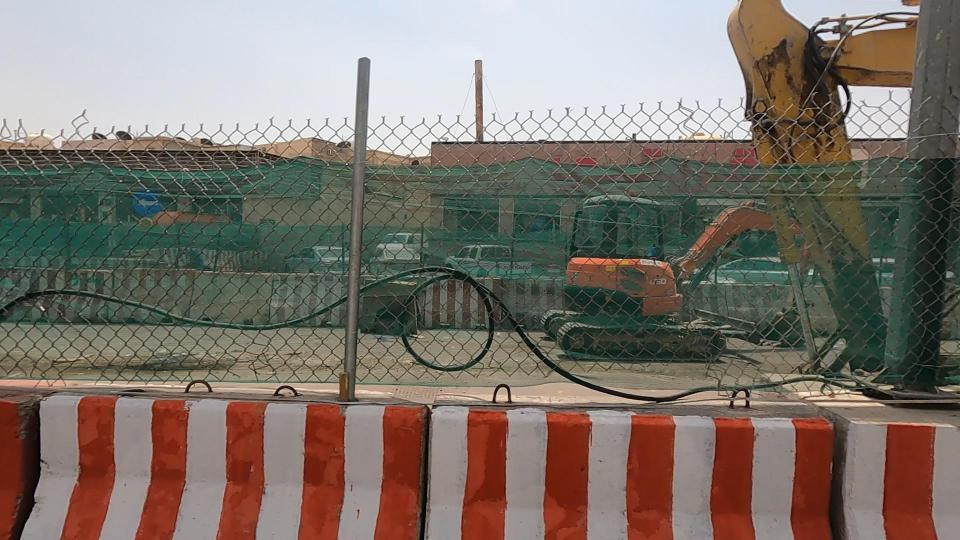CONSTRUCTION_ROAD: (299, 212, 960, 540), (0, 159, 514, 540)
